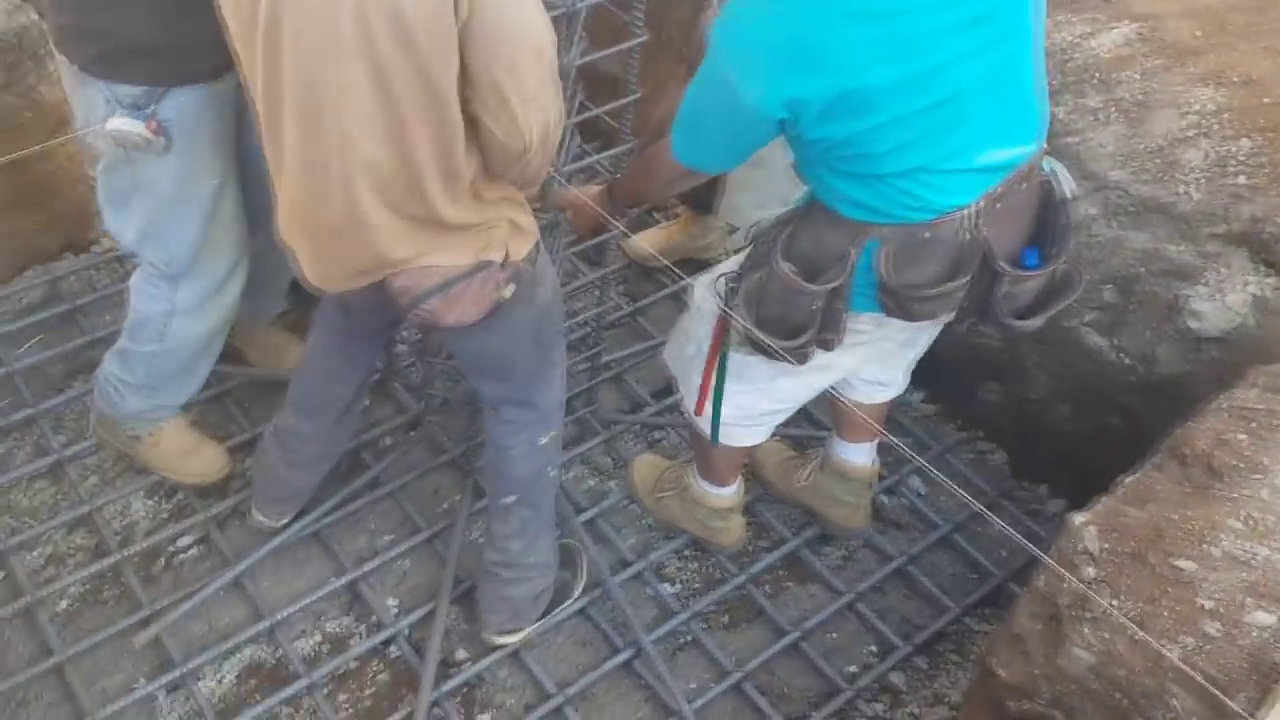person: (560, 0, 1051, 551), (212, 0, 591, 646), (40, 0, 267, 482)
